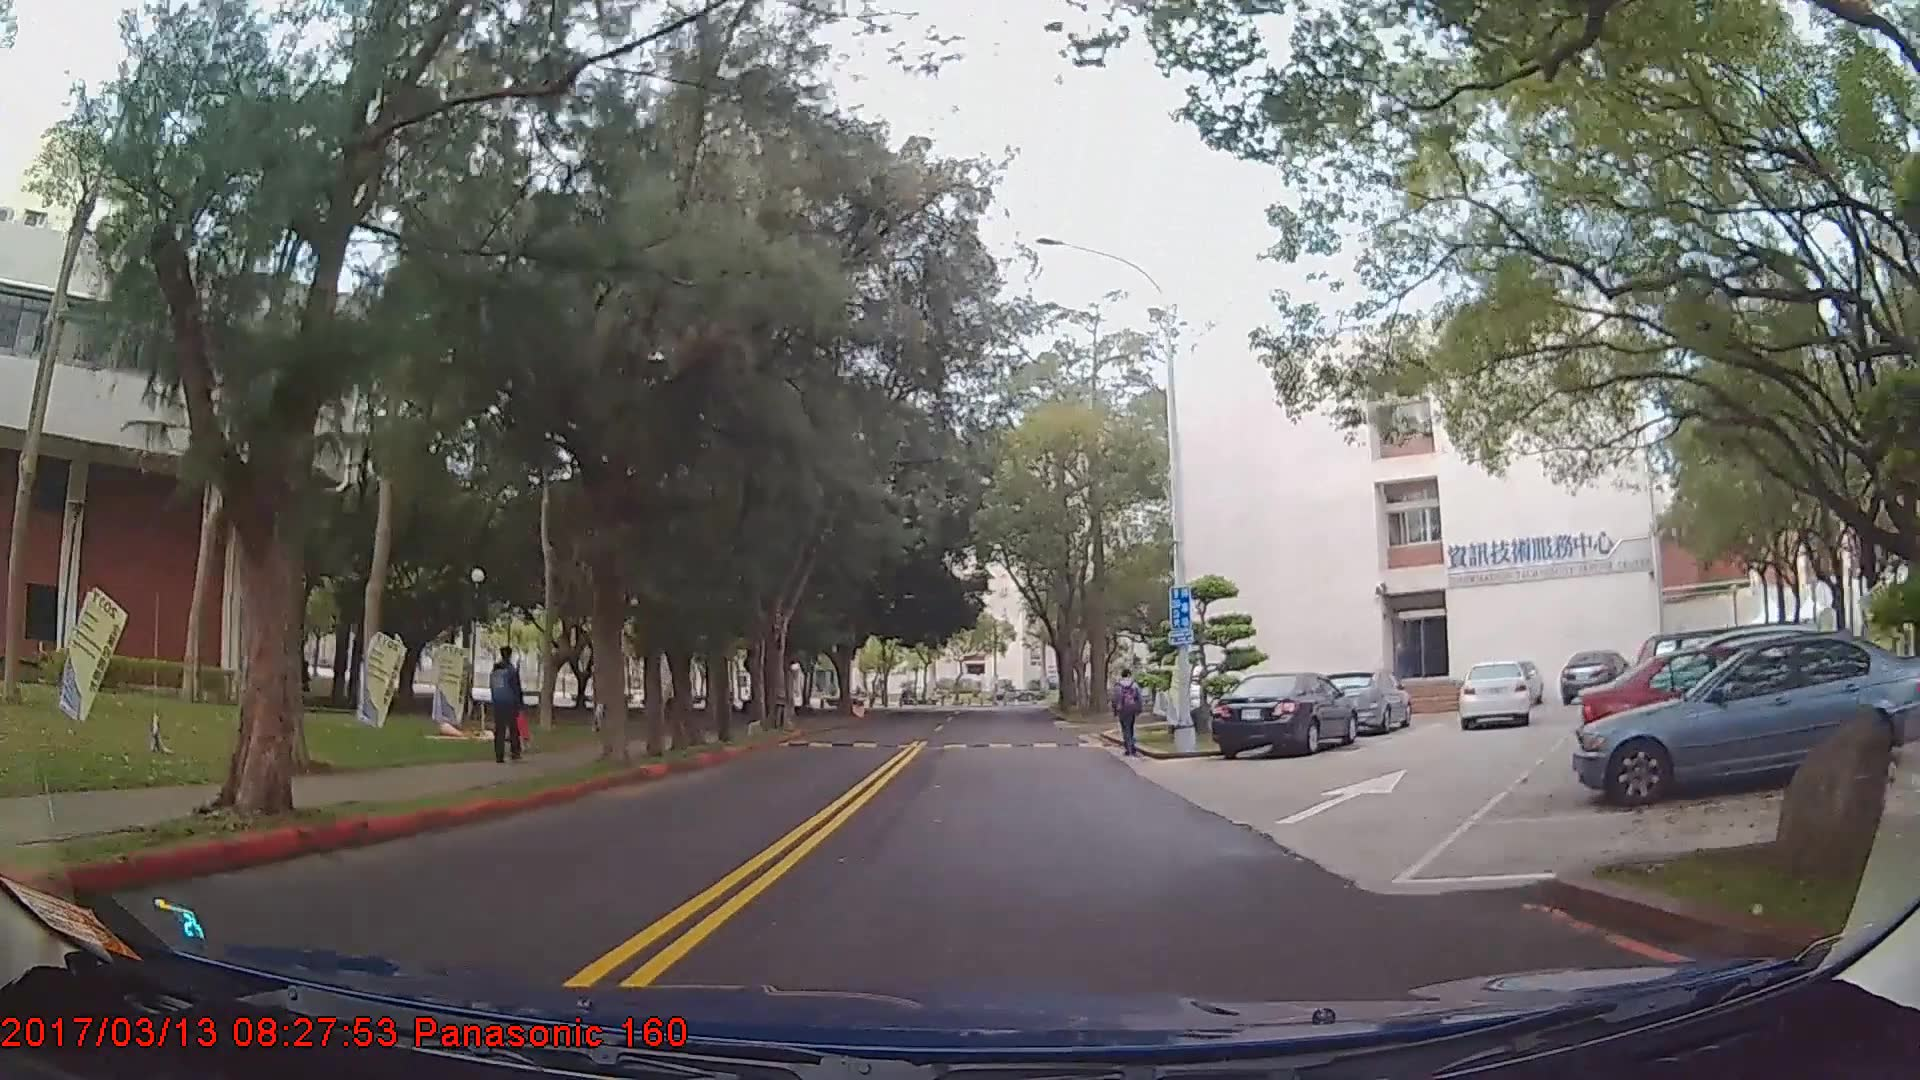pedestrian: (489, 648, 528, 765), (1114, 670, 1145, 759)
vehicle: (1572, 631, 1920, 811), (1576, 637, 1900, 766), (1211, 670, 1359, 758), (1319, 666, 1411, 733), (1459, 661, 1531, 729), (1559, 648, 1628, 703)
